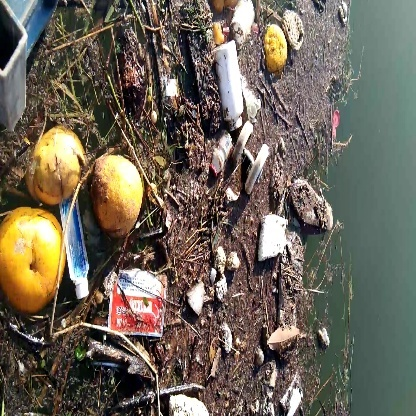ball: (3, 205, 74, 316)
bottle: (214, 41, 252, 132)
